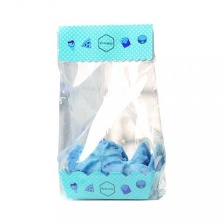snack: (47, 16, 172, 205)
